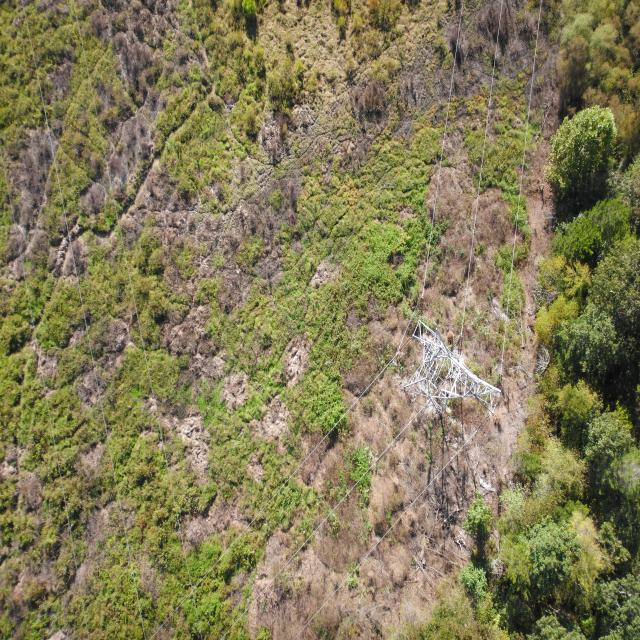Area of Interest: (476, 132, 635, 629)
